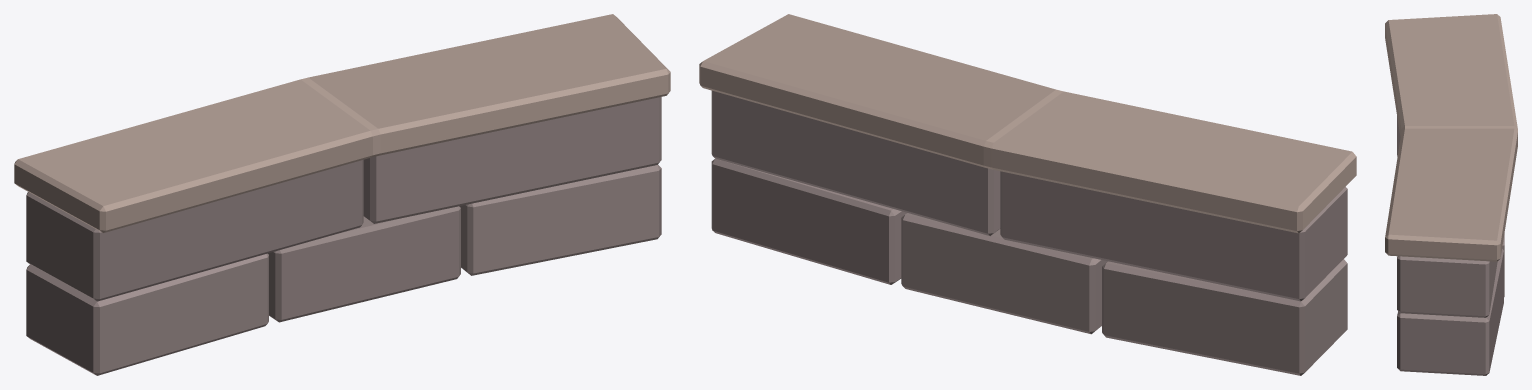
Rendered from Wall_Arena_Segment.fbx.
The picture shows the model from 3 angles, left to right: view 1: azimuth 30°, elevation 25°; view 2: azimuth 150°, elevation 25°; view 3: azimuth 270°, elevation 25°; orthographic projection. The views are drawn at different scales.
Visible parts, largest first — view 1: Wall_Arena_Segment; view 2: Wall_Arena_Segment; view 3: Wall_Arena_Segment.
Part boxes in pixels (x1,y1,x2,y2): Wall_Arena_Segment: [14, 14, 670, 375]; Wall_Arena_Segment: [699, 14, 1356, 375]; Wall_Arena_Segment: [1385, 14, 1517, 375].
Bounding box in the file's own units: 4.67 × 1.3 × 1.14.
